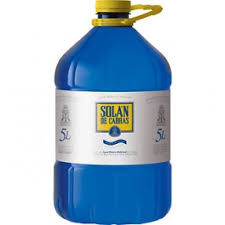solan de cabras: (48, 3, 176, 225)
